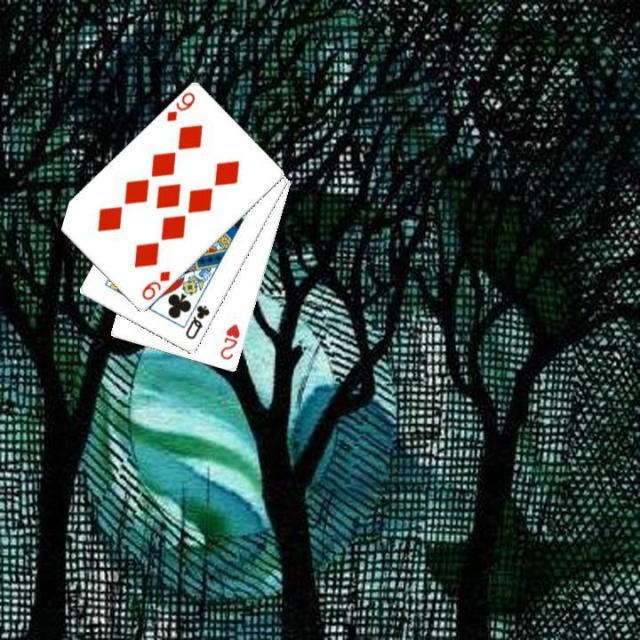2H: (216, 320, 242, 362)
9D: (138, 268, 172, 302), (163, 89, 197, 123)
QC: (182, 302, 212, 342)
